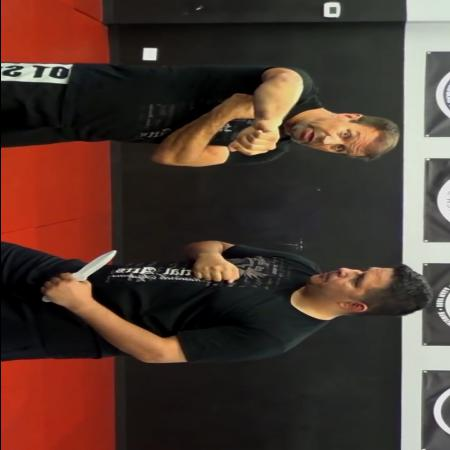long weapon: (34, 247, 124, 307)
